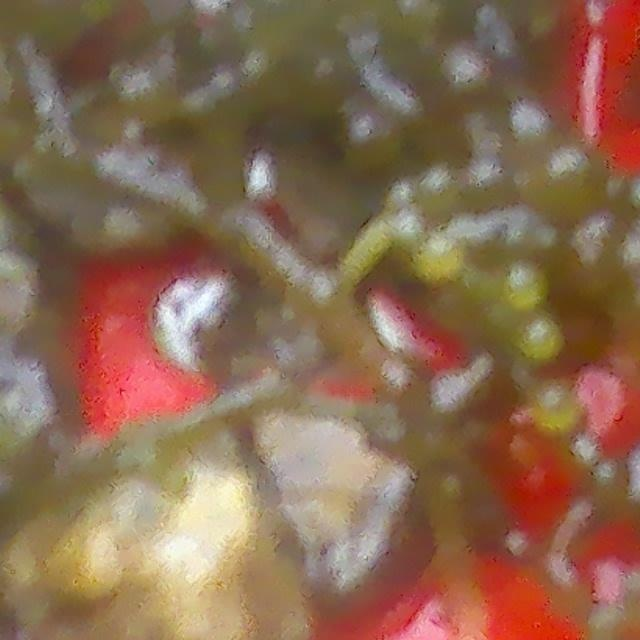SeaGrape: (538, 151, 612, 218), (459, 162, 517, 210), (504, 100, 559, 149), (412, 165, 461, 215), (502, 263, 546, 313), (417, 239, 462, 286), (518, 319, 560, 359)
